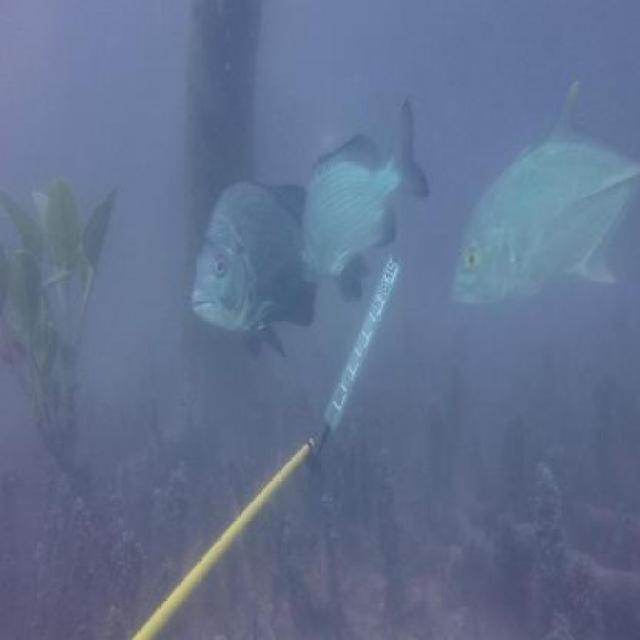Caranx: (449, 75, 640, 314)
acanthopagrus_palmaris: (189, 172, 369, 357), (293, 96, 430, 304)
